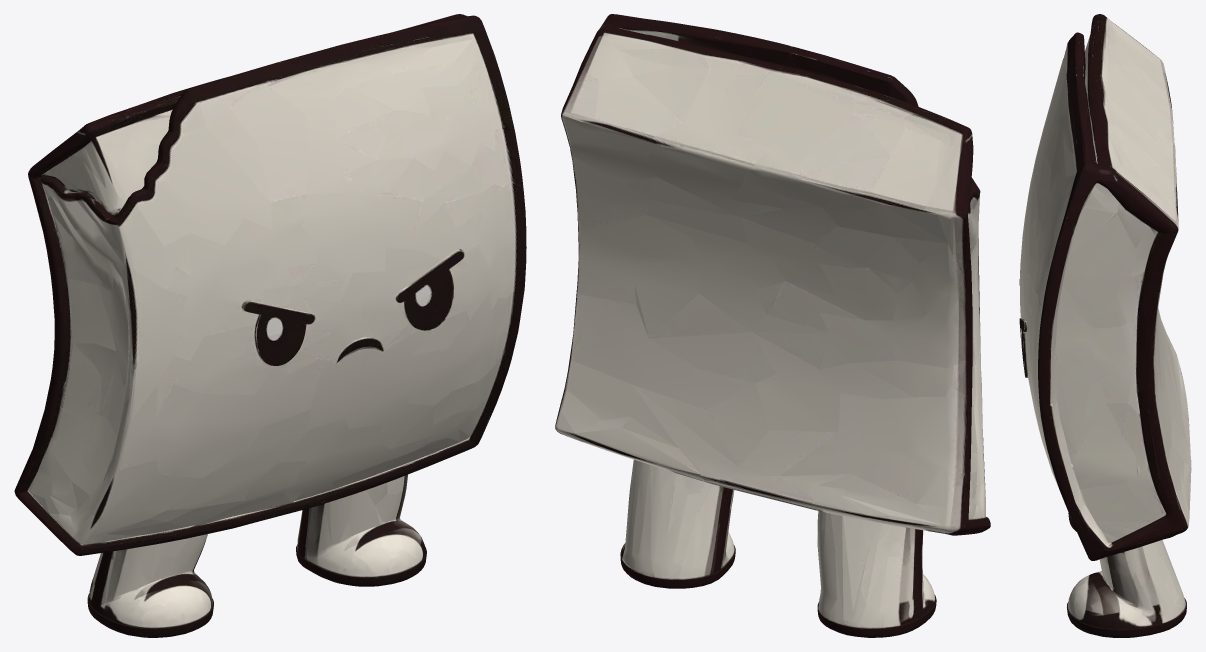
File: creep_swarm.glb
The picture shows the model from 3 angles, left to right: view 1: azimuth 30°, elevation 25°; view 2: azimuth 150°, elevation 25°; view 3: azimuth 270°, elevation 25°; orthographic projection. The views are drawn at different scales.
Bounding box in the file's own units: 1.61 × 1.9 × 0.5928.
1 material, 1 textured.
